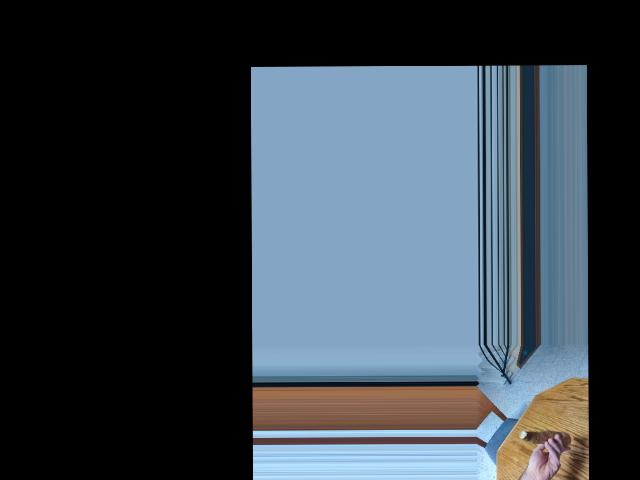sweet_potato: (518, 431, 562, 442)
